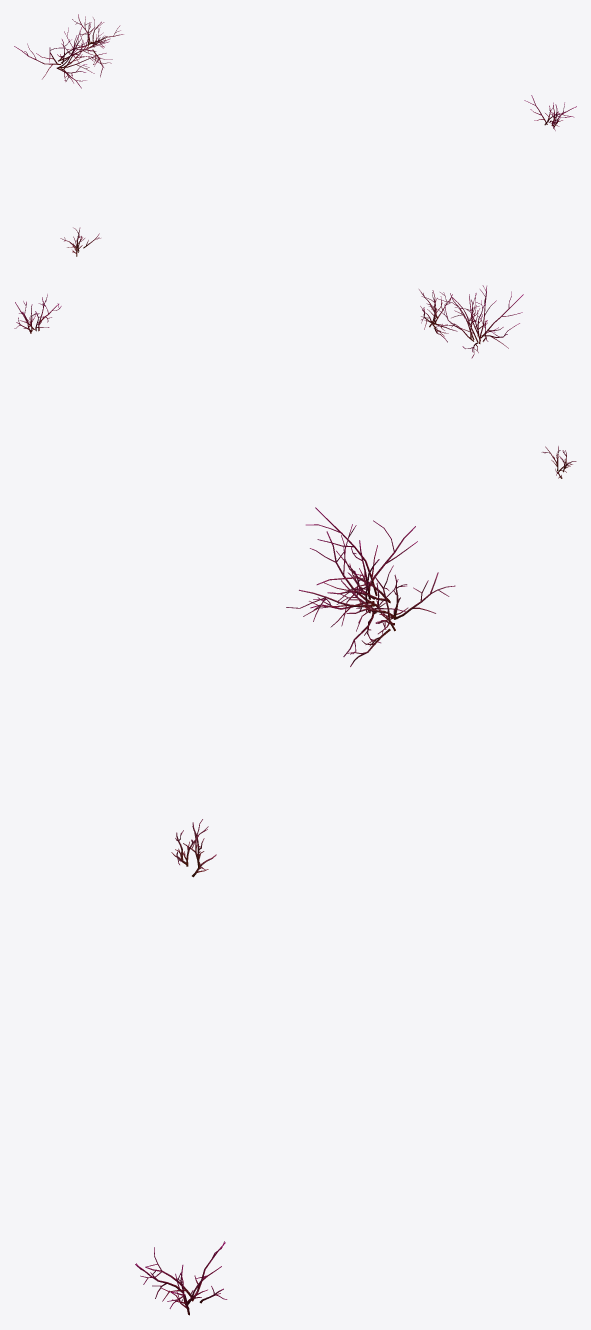
The model's file is macro_red.glb.
3 views of the same model, one above another, from view 1: azimuth 30°, elevation 25°; view 2: azimuth 150°, elevation 25°; view 3: azimuth 270°, elevation 25° (orthographic). The views are drawn at different scales.
Parts seen in each view (by area): view 1: Body; view 2: Body; view 3: Body.
Part boxes in pixels (box(x1,y1,x2,y2)): Body: box(14, 14, 576, 256); Body: box(14, 285, 576, 478); Body: box(135, 507, 455, 1315).
Size of the model in its own units: 95.37 by 34.45 by 26.07.
1 material, 1 textured.
